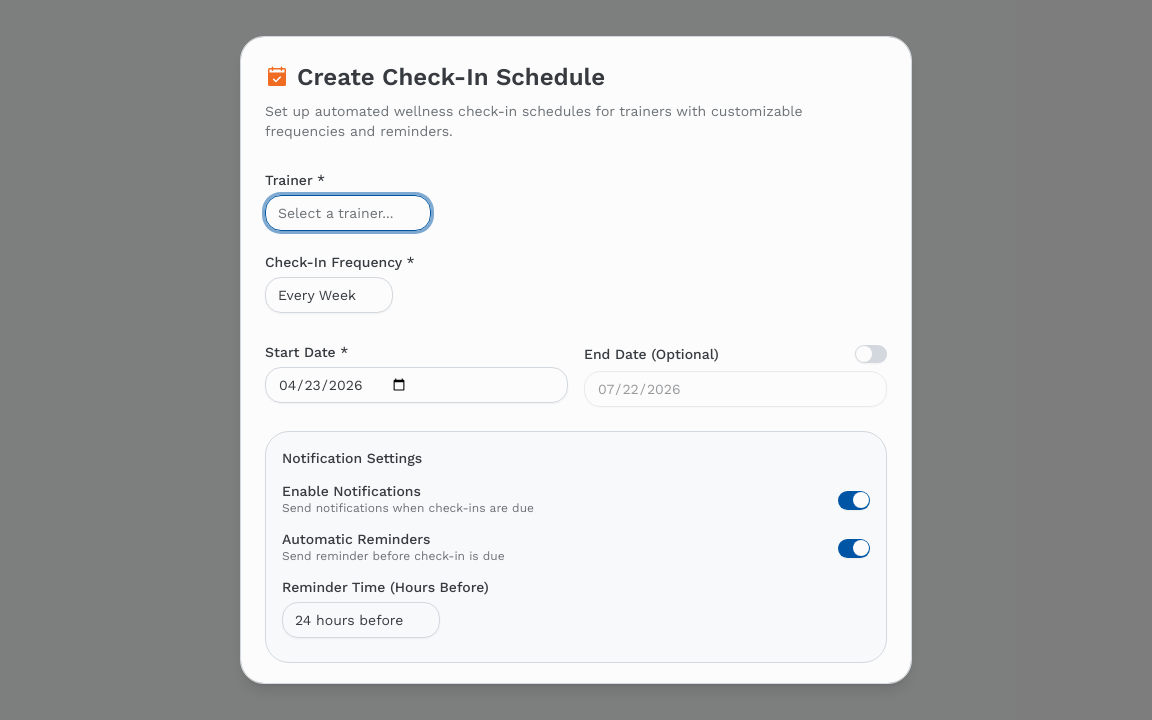
Scenario: CheckInScheduleDialog › shows custom days input when frequency is set to custom
The image size is (1152, 720).
Select a trainer
Step 1. Click the dropdown labelled "Select a trainer..." → (348, 213), box [265, 195, 430, 231]
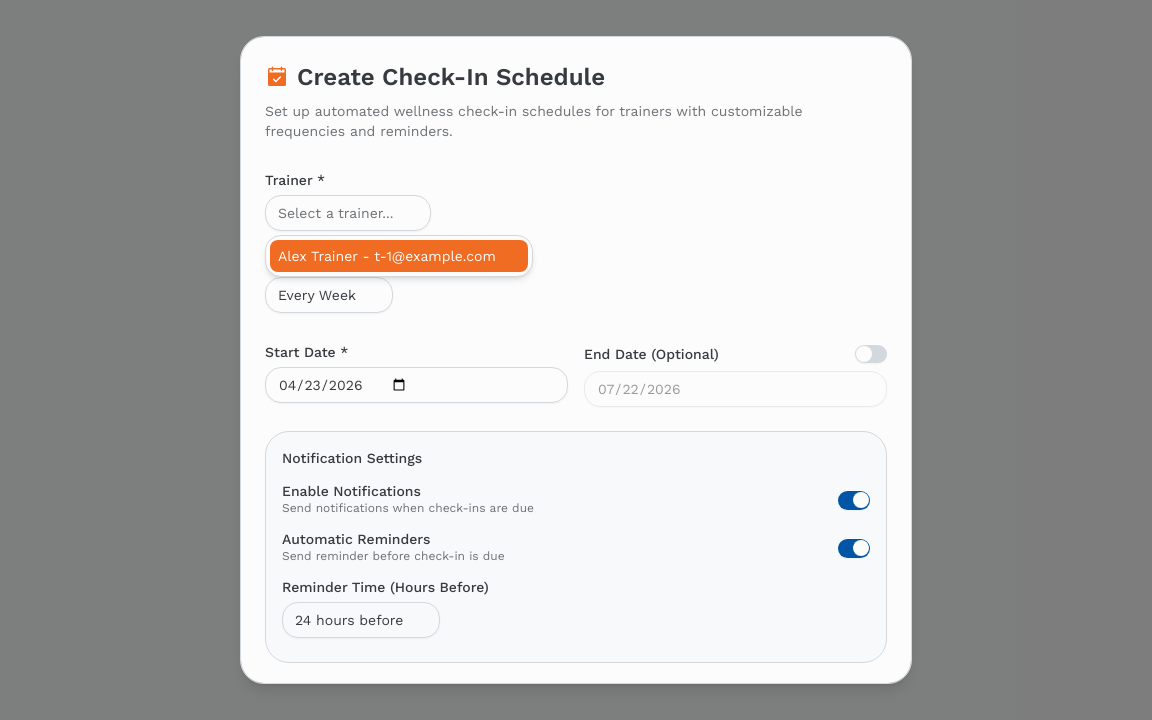
Step 2. Click the option "Alex Trainer - t-1@example.com" → (399, 256), box [270, 240, 528, 272]
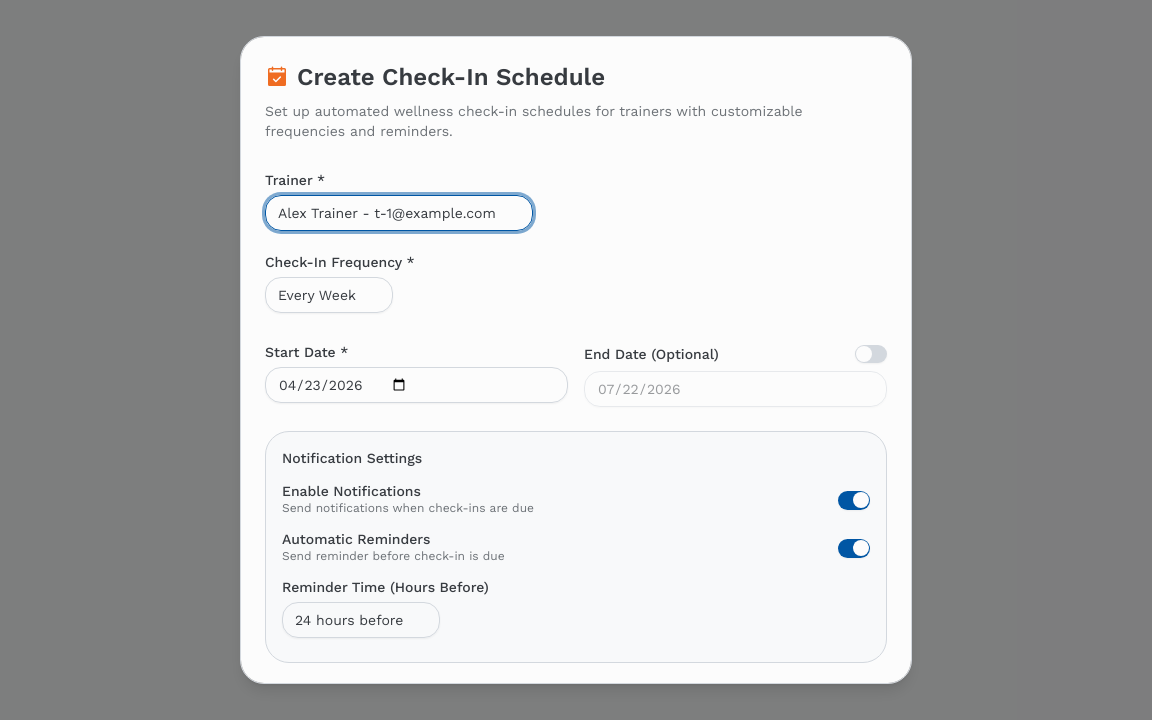
Expected: the field labelled "custom days" is not shown
Open frequency combobox and select custom
Step 3. Click the dropdown named "Check-In Frequency" → (329, 295), box [265, 277, 393, 313]
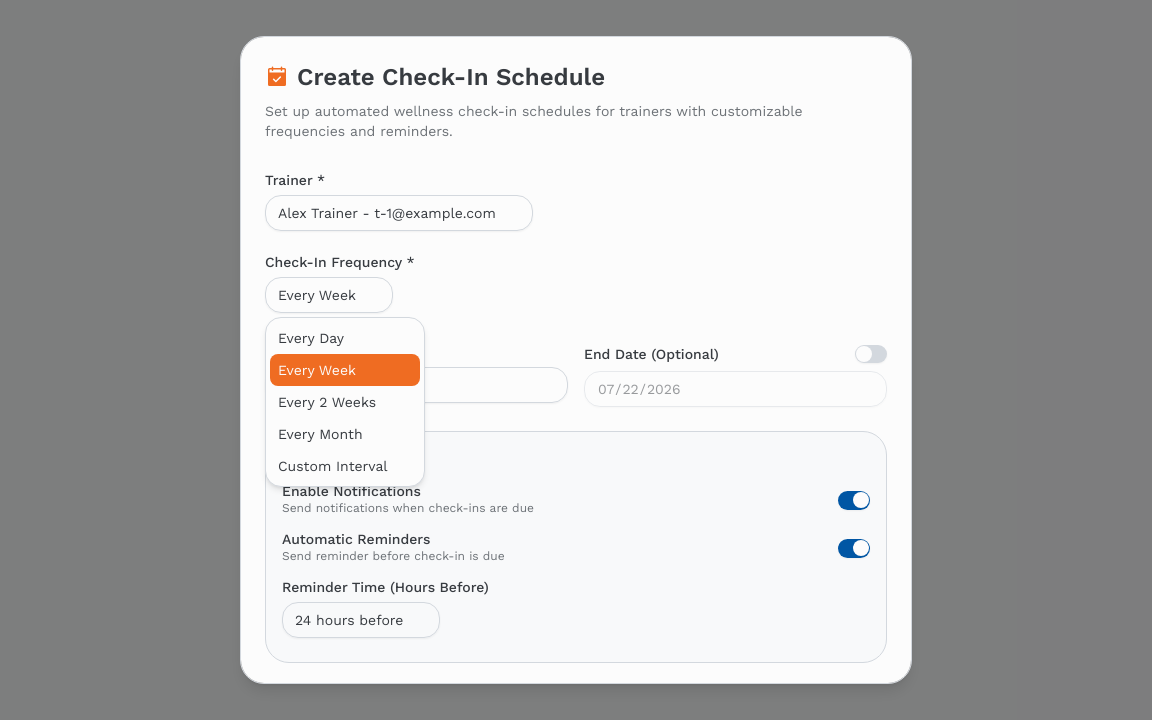
Step 4. Click the option "Custom Interval" → (333, 466), box [278, 458, 388, 474]
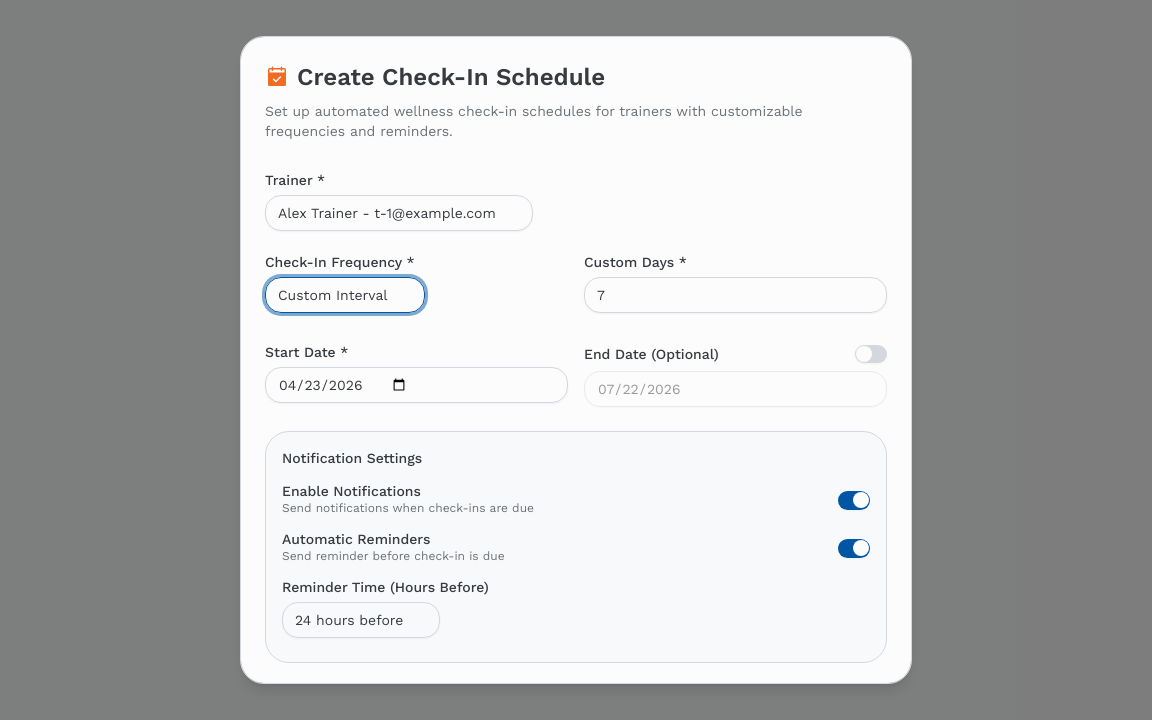
Expected: the number field labelled "Custom Days *" is shown, [584, 277, 887, 313]
